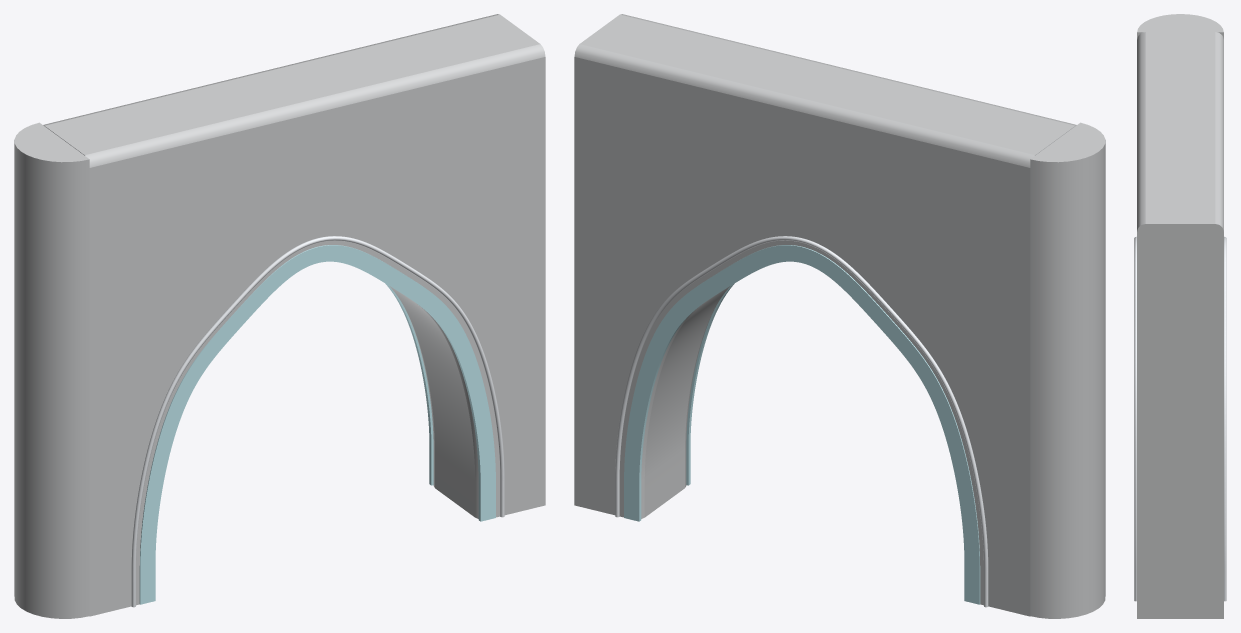
Rendered from Arch_R2D09_WaveDrape.fbx.
The picture shows the model from 3 angles, left to right: view 1: azimuth 30°, elevation 25°; view 2: azimuth 150°, elevation 25°; view 3: azimuth 270°, elevation 25°; orthographic projection. The views are drawn at different scales.
Parts seen in each view (by area): view 1: Arch_R2D09_WaveDrape; view 2: Arch_R2D09_WaveDrape; view 3: Arch_R2D09_WaveDrape.
Part boxes in pixels (bbox=[...]): Arch_R2D09_WaveDrape: bbox=[14, 14, 545, 618]; Arch_R2D09_WaveDrape: bbox=[574, 14, 1105, 618]; Arch_R2D09_WaveDrape: bbox=[1134, 14, 1226, 618].
Bounding box in the file's own units: 2.29 × 2.01 × 0.4251.
